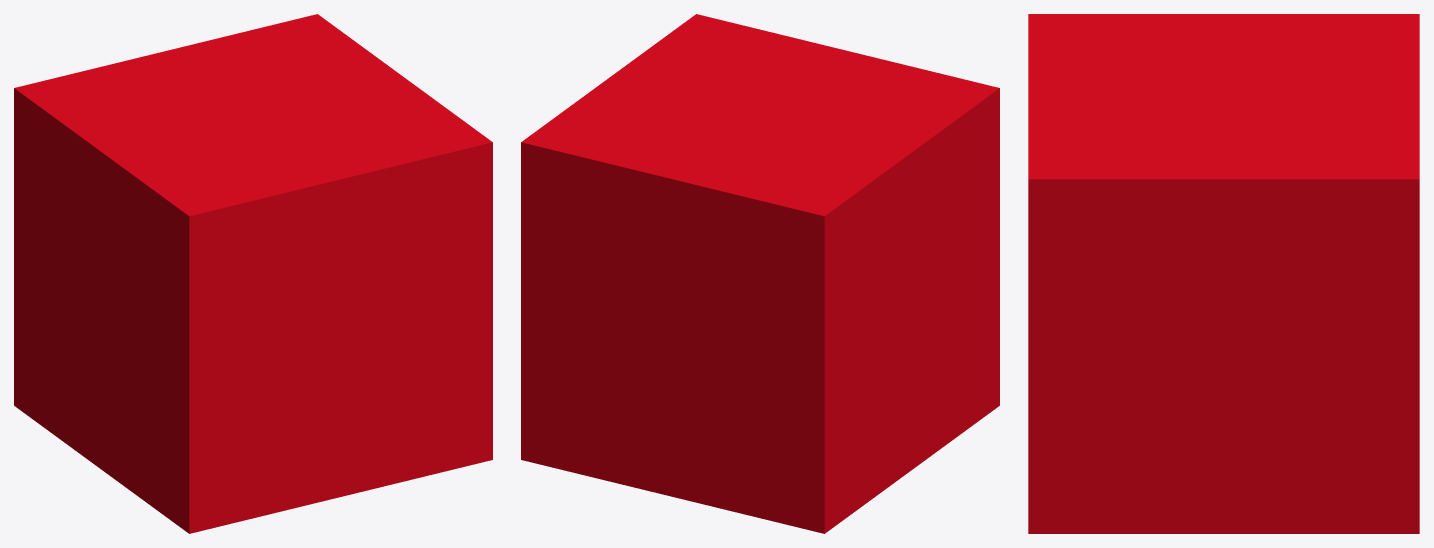
The picture shows the model from 3 angles, left to right: view 1: azimuth 30°, elevation 25°; view 2: azimuth 150°, elevation 25°; view 3: azimuth 270°, elevation 25°; orthographic projection. The views are drawn at different scales.
Parts seen in each view (by area): view 1: Cube; view 2: Cube; view 3: Cube.
Boxes of the visible parts, <box> form: Cube: <box>14,14,492,533</box>; Cube: <box>521,14,999,533</box>; Cube: <box>1028,14,1419,533</box>.
Bounding box in the file's own units: 100 × 100 × 100.
